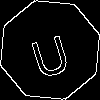U: (25, 25, 74, 80)
